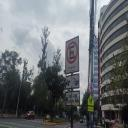NoEstacionar: (63, 37, 81, 65)
